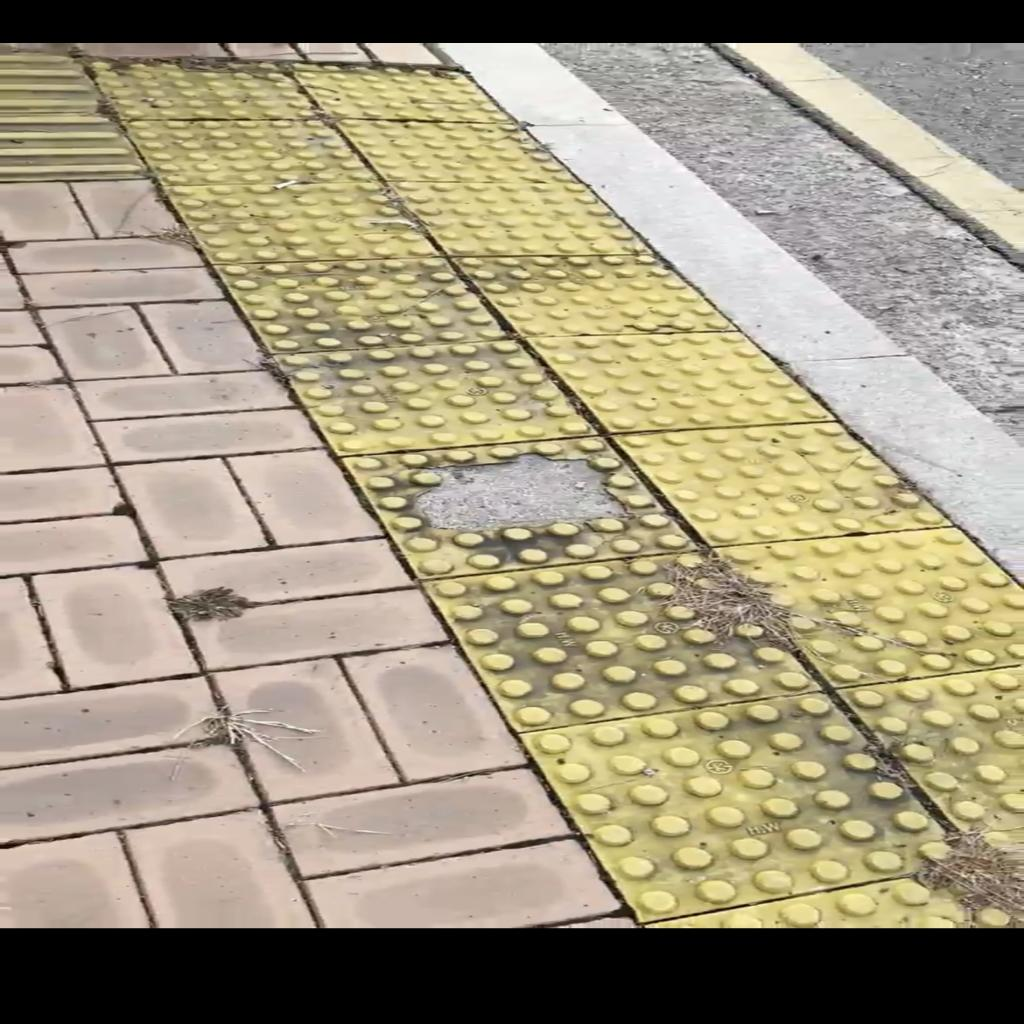Stop block broken: (345, 424, 700, 582)
Stop block normal: (614, 408, 948, 551), (528, 321, 833, 434)
